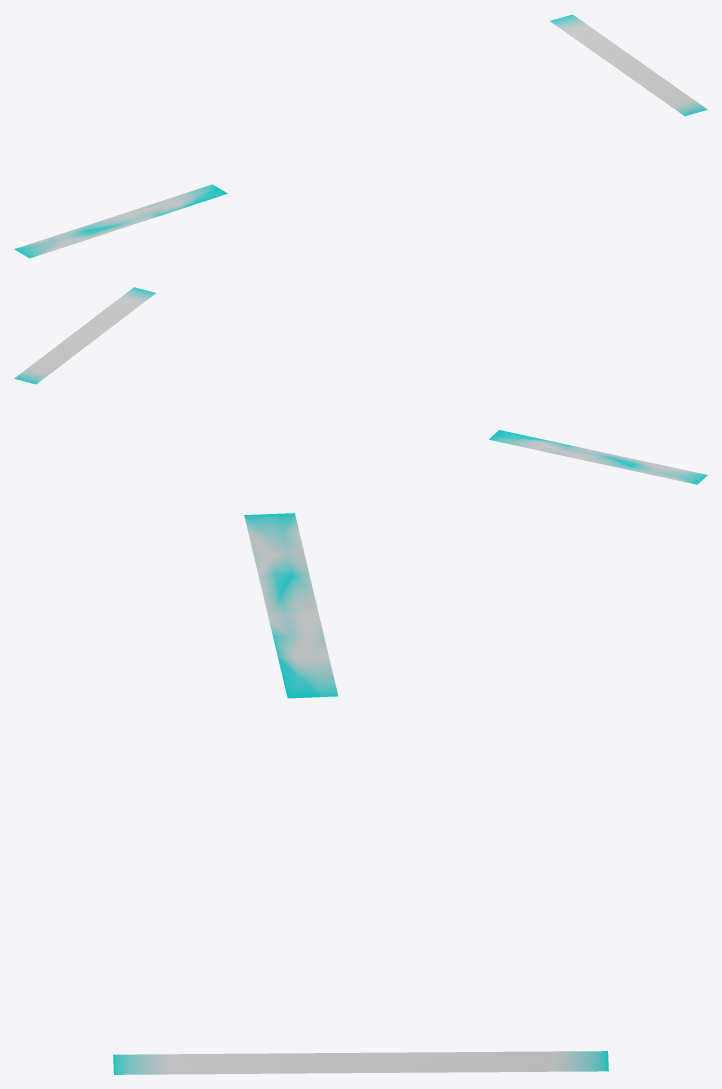
3 views of the same model, one above another, from view 1: azimuth 30°, elevation 25°; view 2: azimuth 150°, elevation 25°; view 3: azimuth 270°, elevation 25° (orthographic). The views are drawn at different scales.
Parts seen in each view (by area): view 1: SpaceCenter_Long3_GenerateRoad_Asphalt_PCGMesh_Decal_Mesh_x9; view 2: SpaceCenter_Long3_GenerateRoad_Asphalt_PCGMesh_Decal_Mesh_x9; view 3: SpaceCenter_Long3_GenerateRoad_Asphalt_PCGMesh_Decal_Mesh_x9.
Boxes of the visible parts, left/top/right/bottom form: SpaceCenter_Long3_GenerateRoad_Asphalt_PCGMesh_Decal_Mesh_x9: left=14, top=14, right=707, bottom=258; SpaceCenter_Long3_GenerateRoad_Asphalt_PCGMesh_Decal_Mesh_x9: left=14, top=287, right=707, bottom=484; SpaceCenter_Long3_GenerateRoad_Asphalt_PCGMesh_Decal_Mesh_x9: left=113, top=513, right=608, bottom=1074.
Bounding box in the file's own units: 350 × 992 × 25.02.
